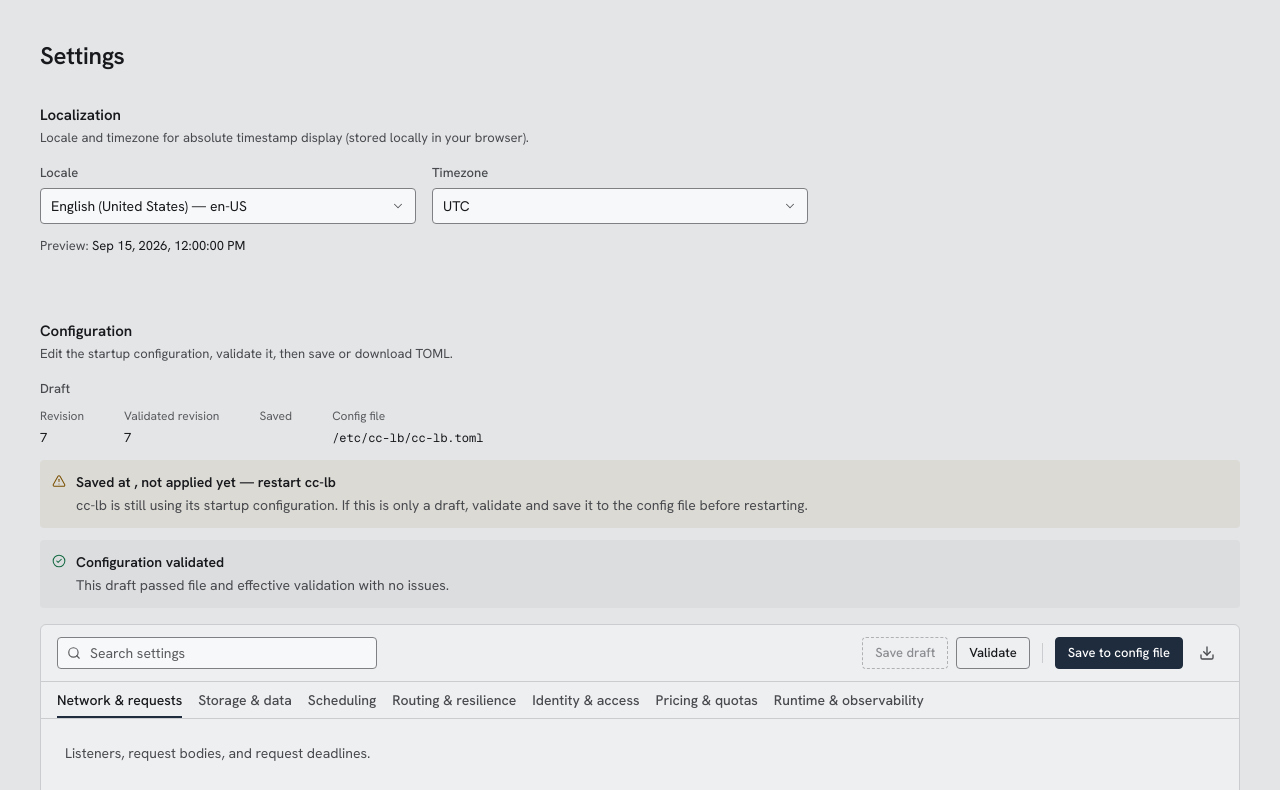
Test: settings search leads the editor toolbar and overlays results without shifting the panel
Expected: the button "Save draft" is shown, x1=862 y1=637 x2=948 y2=669
Expected: the button "Validate" is shown, x1=956 y1=637 x2=1030 y2=669
Type "tracing" into the dropdown labelled "Search settings" at (217, 653), box x1=57 y1=637 x2=377 y2=669
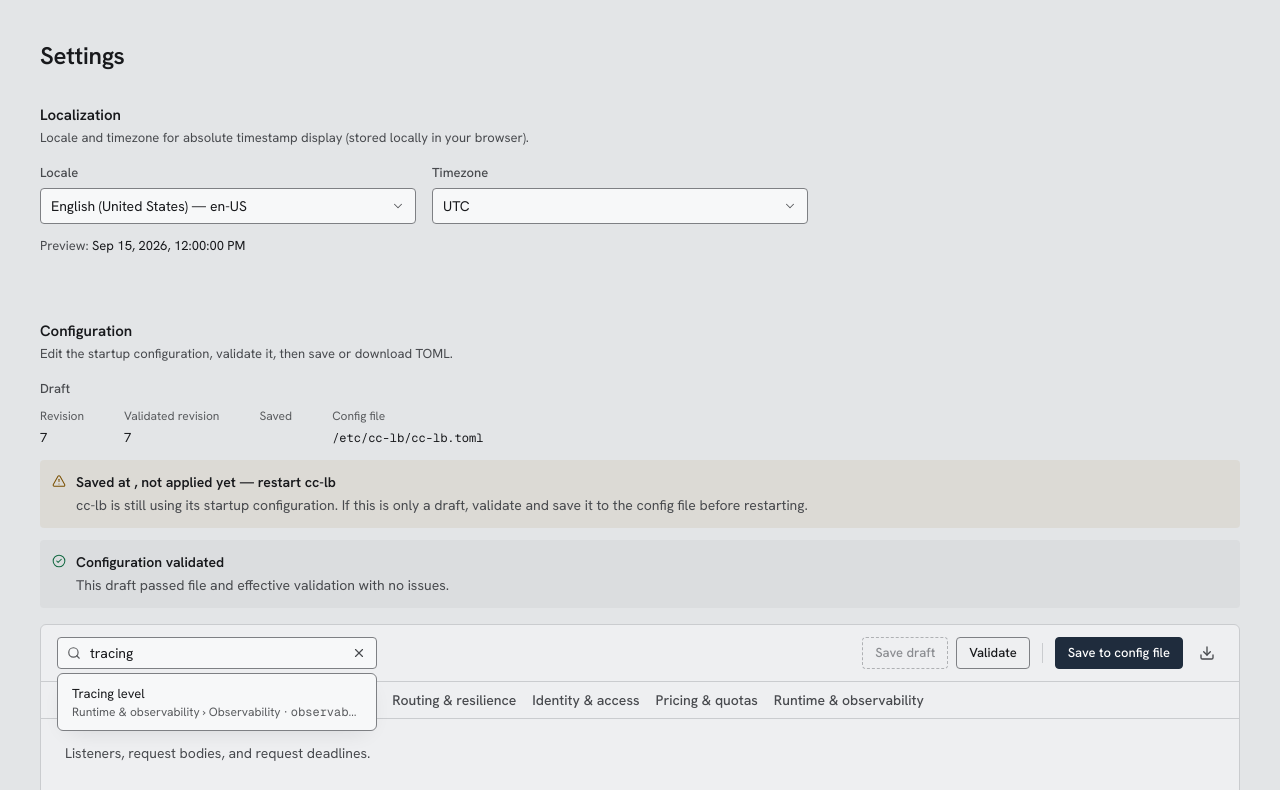
Expected: the dropdown named "Search" is expanded, x1=57 y1=637 x2=377 y2=669
Click the option "Tracing" at (217, 702), box x1=62 y1=678 x2=372 y2=726
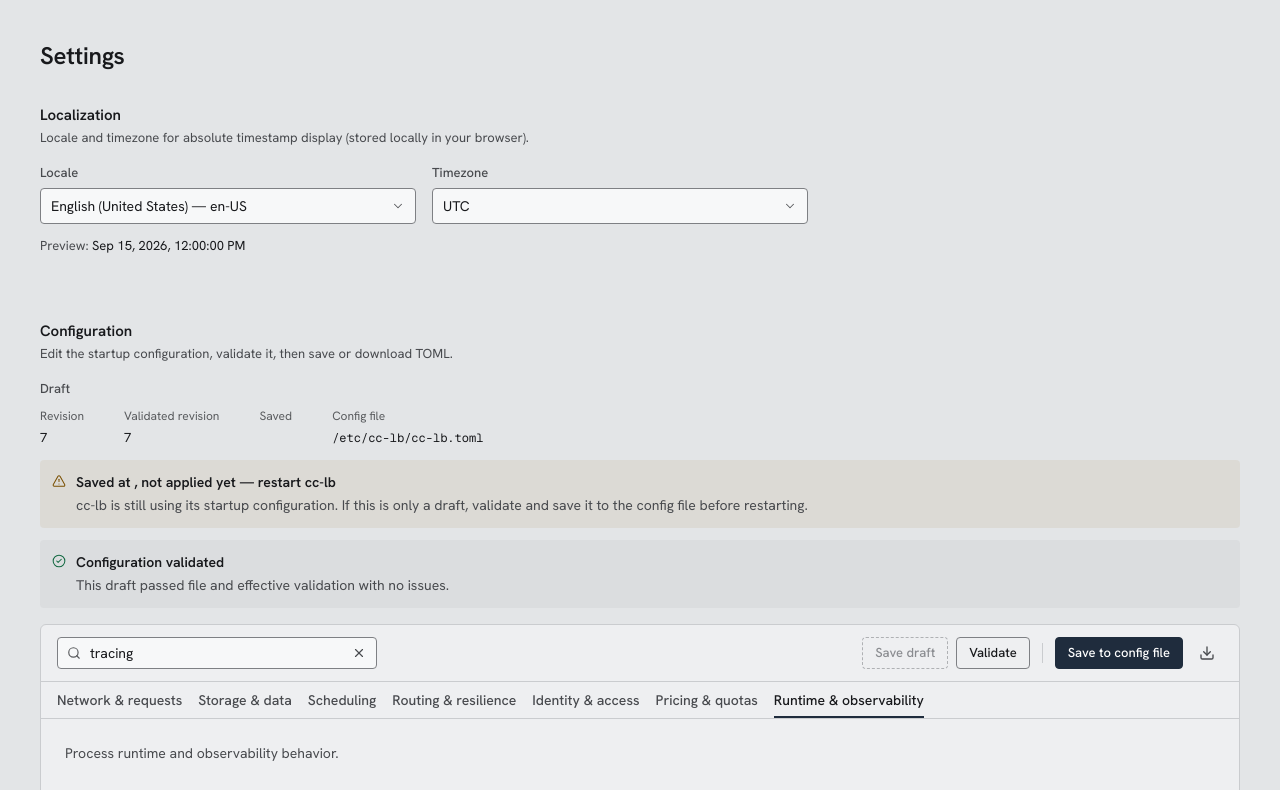
Expected: the list with test id "config-search-results" is gone
